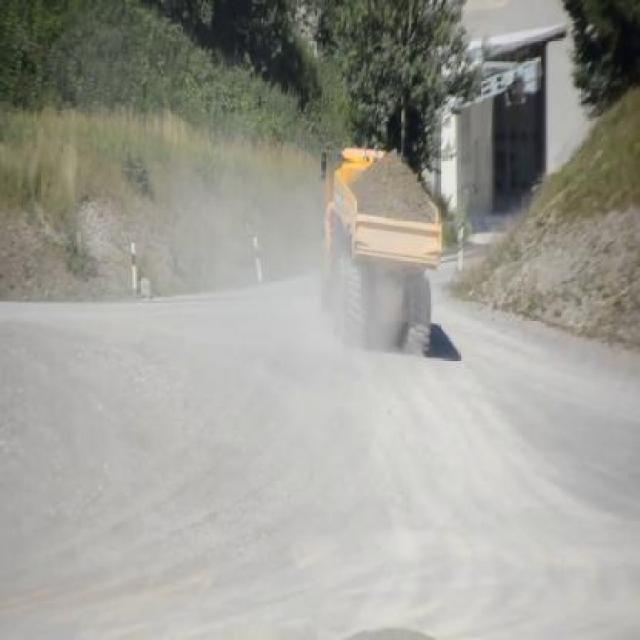Dump Truck: (318, 140, 444, 358)
